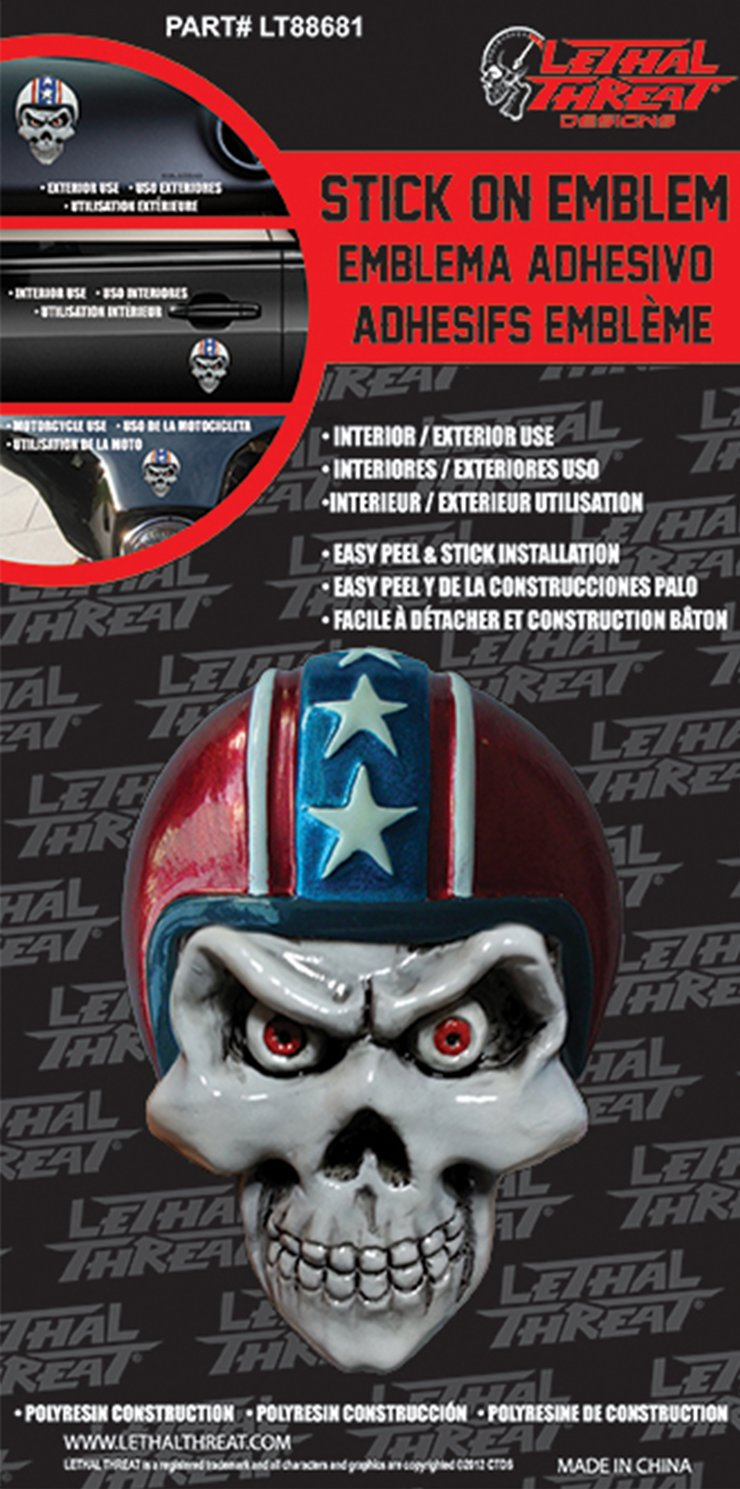with_helmet: (105, 649, 628, 1095)
